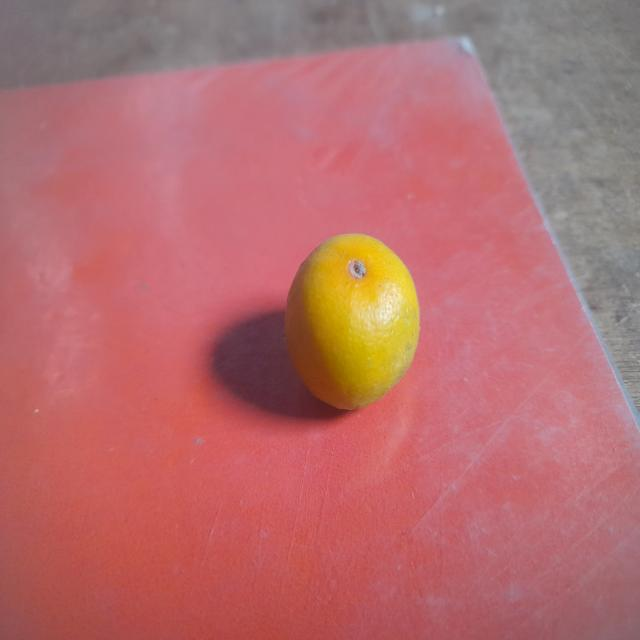greening: (292, 227, 428, 412)
